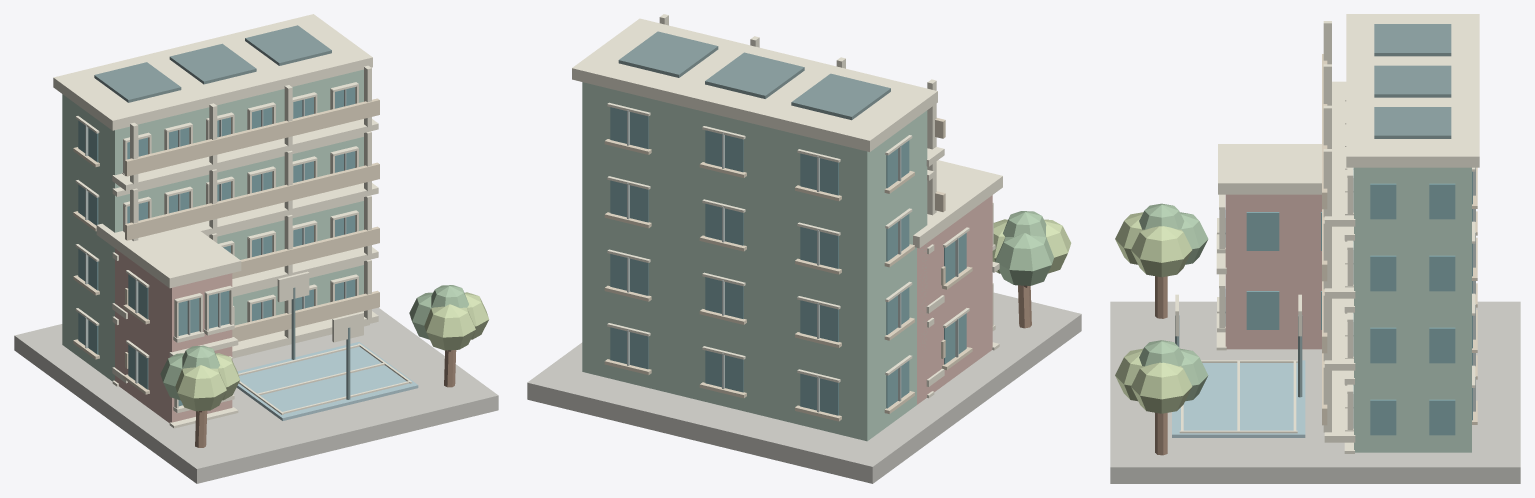
The model's file is dot-tpl-school-2.glb.
3 renders of one model, left to right at view 1: azimuth 30°, elevation 25°; view 2: azimuth 150°, elevation 25°; view 3: azimuth 270°, elevation 25°, orthographic. The views are drawn at different scales.
Visible parts, largest first — view 1: paving; view 2: paving; view 3: paving.
Boxes of the visible parts, x1,y1,x2,y2 form: paving: (14,14,498,483); paving: (527,14,1081,483); paving: (1110,14,1520,483).
Bounding box in the file's own units: 4 × 3.46 × 4.
Materials: 1 (1 with a texture image).
